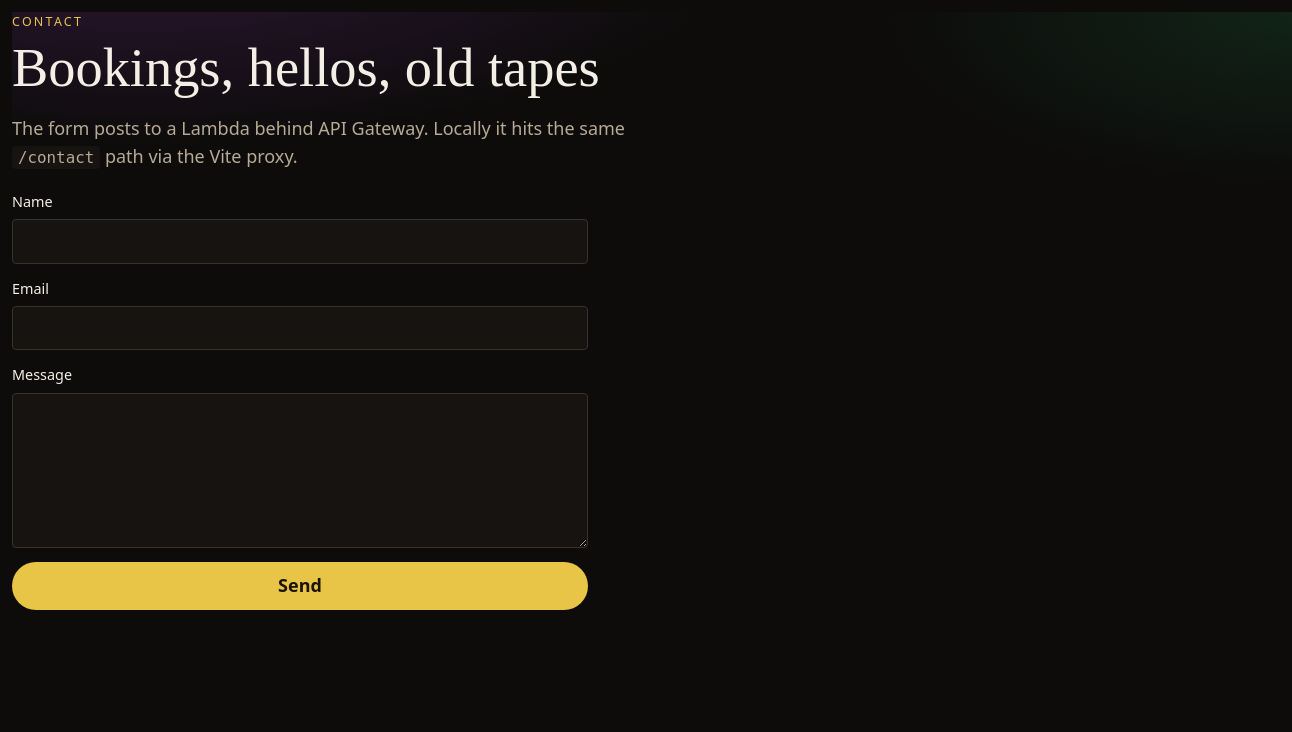
Test: Contact › shows error message on failed submission
In the field labelled "Name": (300, 241) [12, 219, 588, 264], type "Brendan"
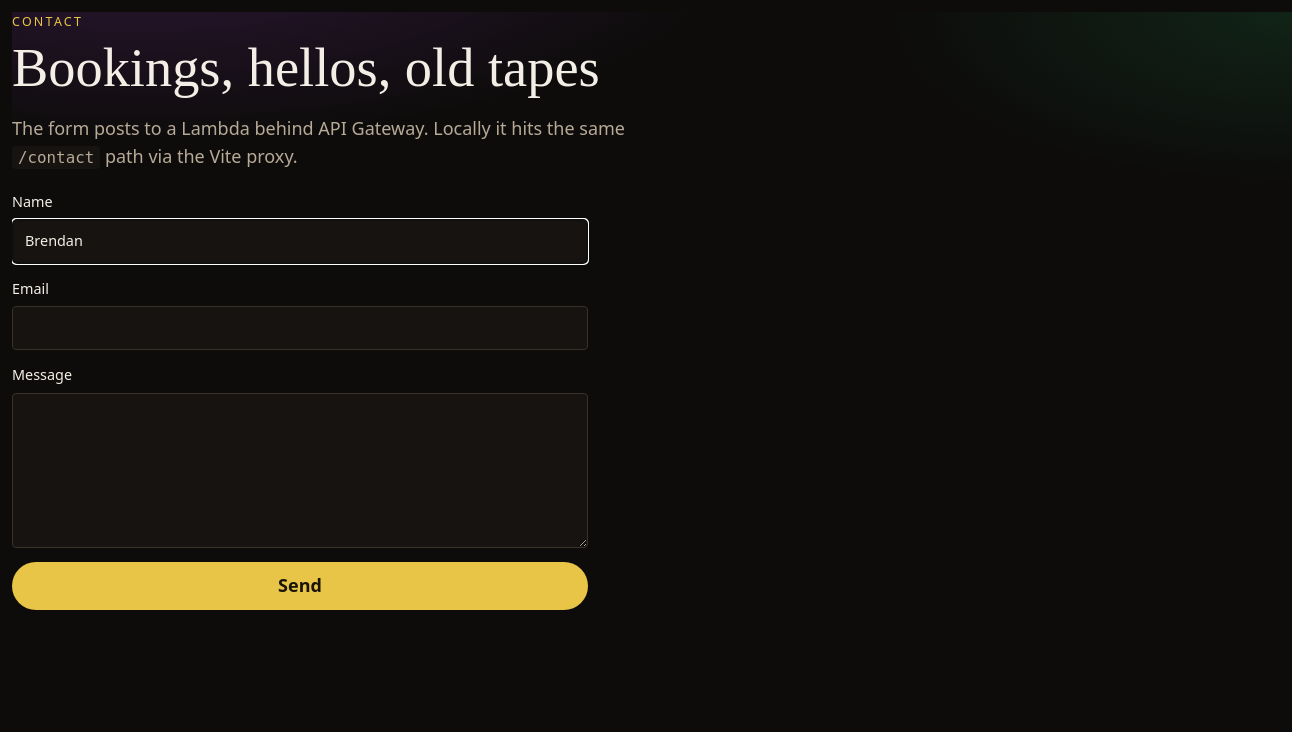
In the field labelled "Email": (300, 328) [12, 306, 588, 350], type "brendan@test.com"
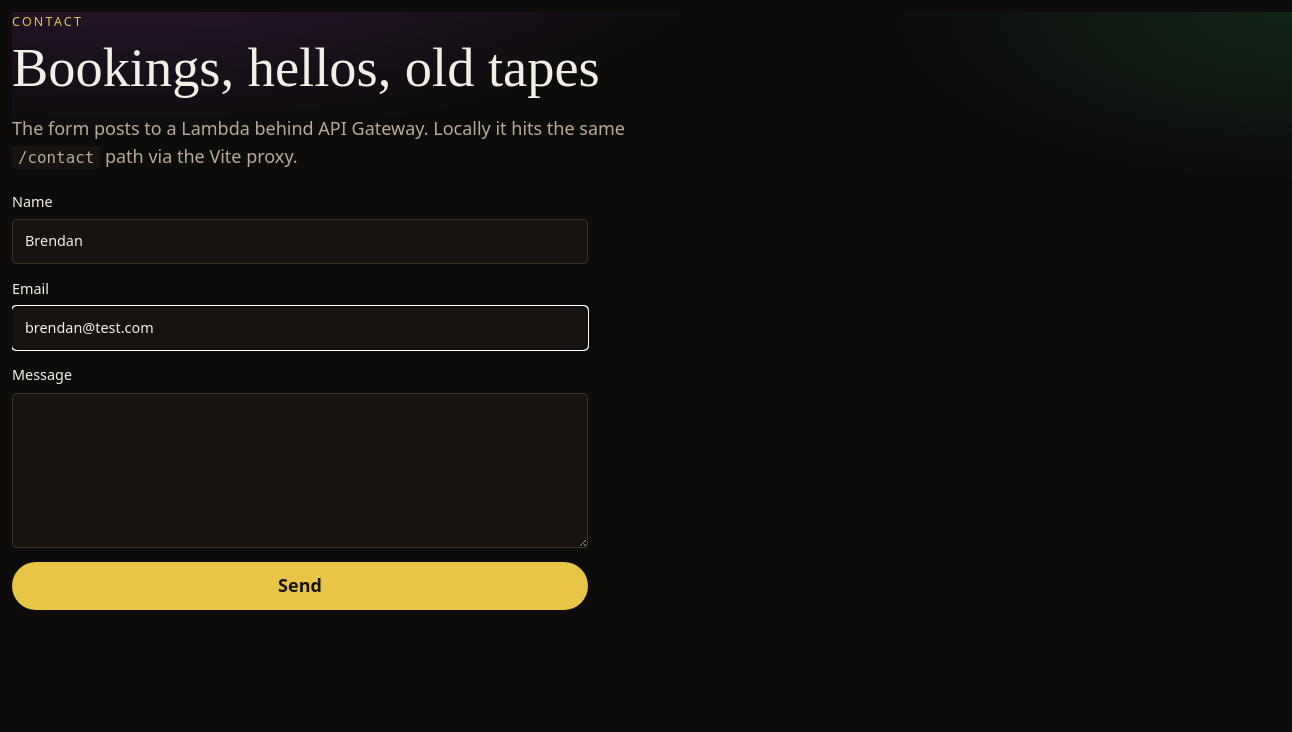
In the text box labelled "Message": (300, 470) [12, 392, 588, 548], type "Hello there"
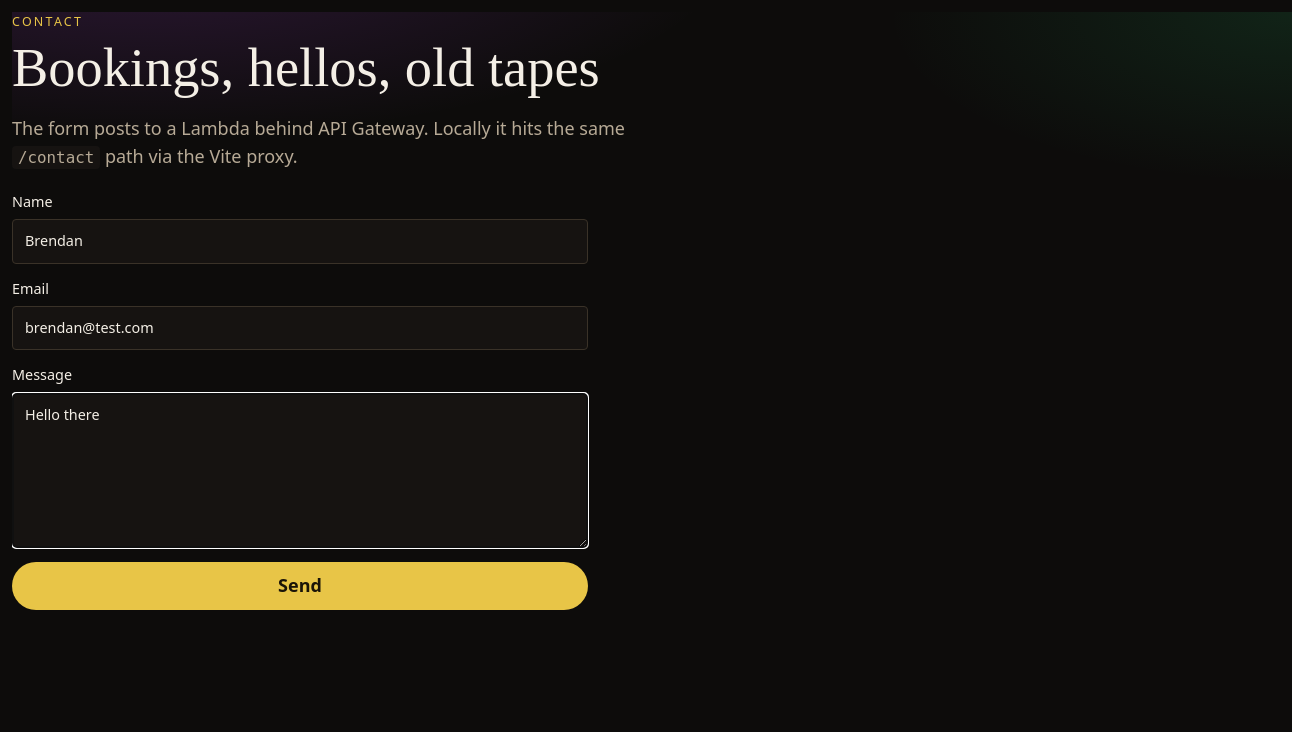
Click the button "Send": click(300, 586) [12, 562, 588, 610]
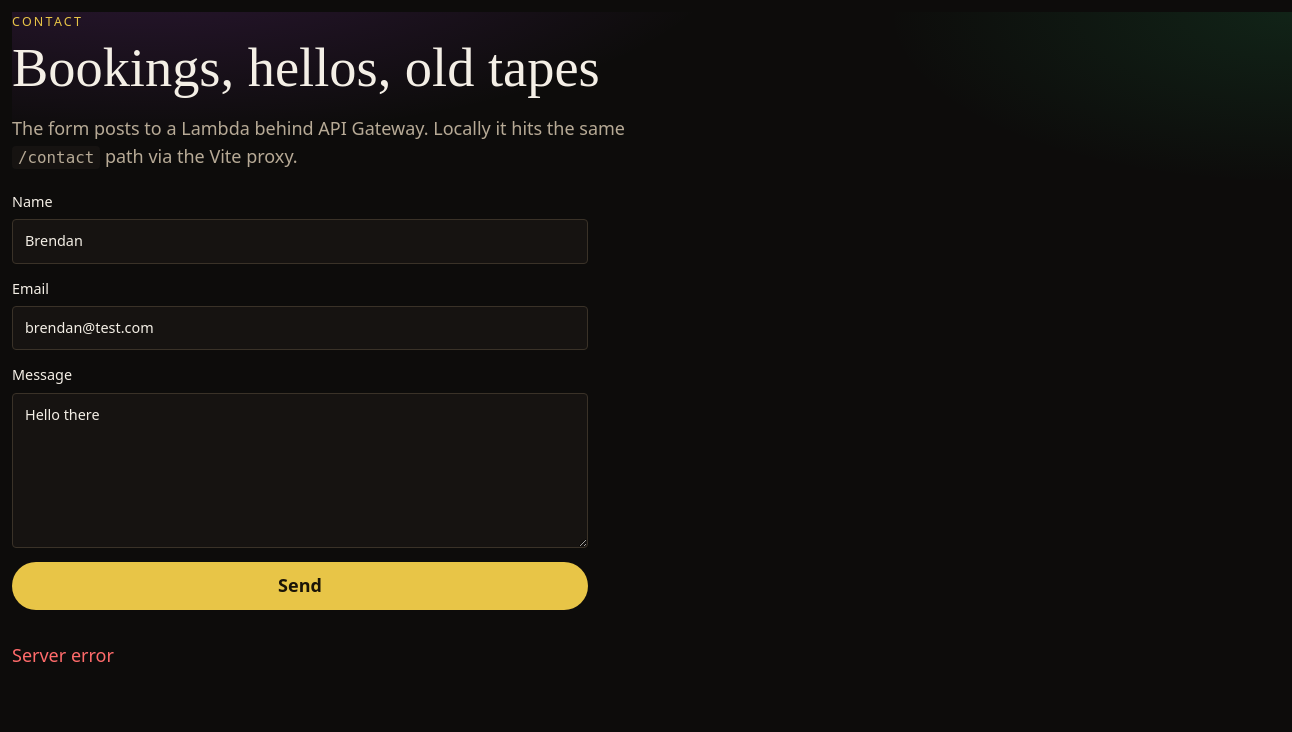
Expected: the text "Server error" is shown, [12, 643, 114, 667]
